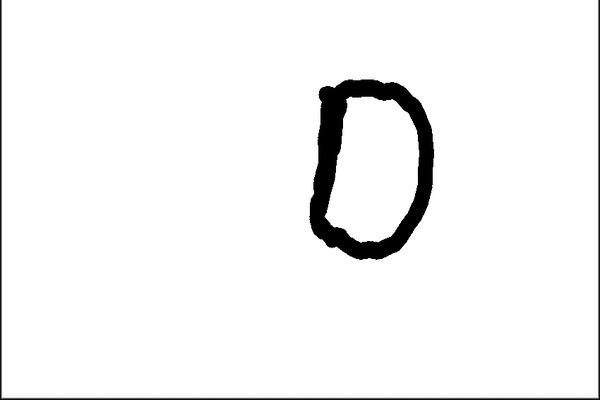D: (300, 70, 443, 264)
